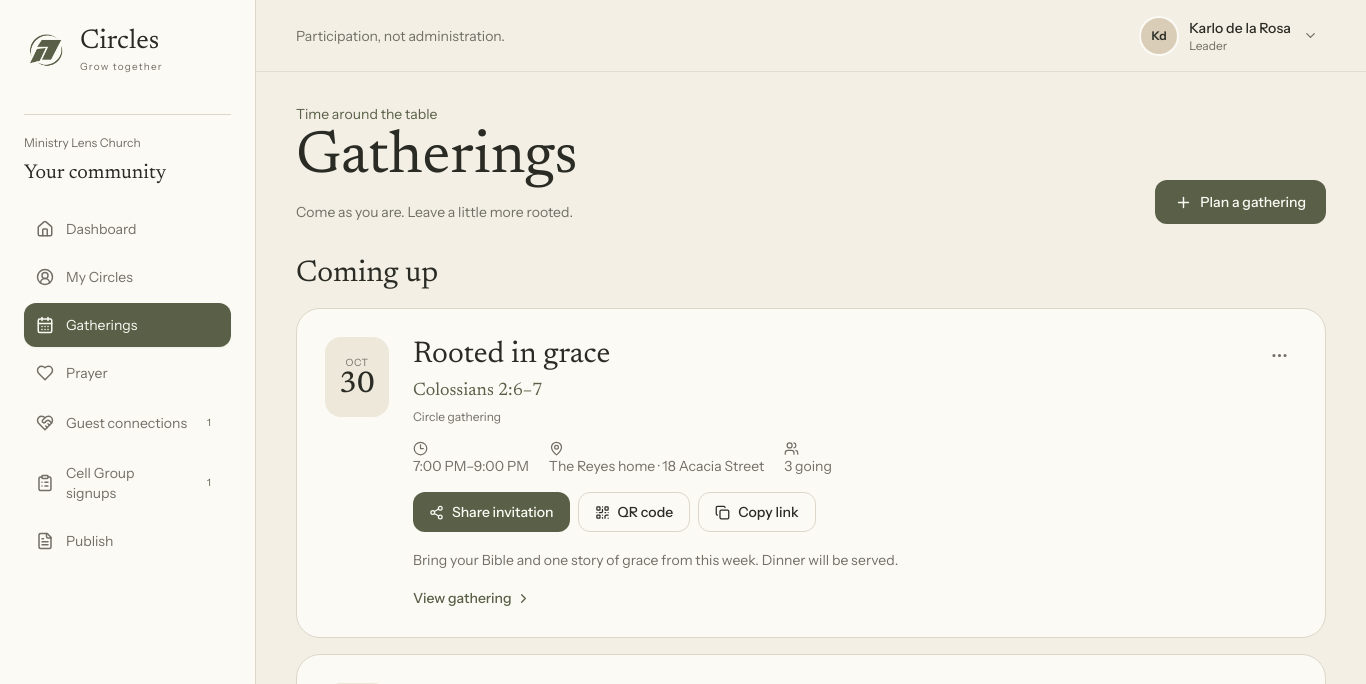
Test: Circles MVP › explains where attendance is recorded for a historical gathering
Click the button "Plan a gathering": (1241,202) x1=1155 y1=180 x2=1326 y2=224
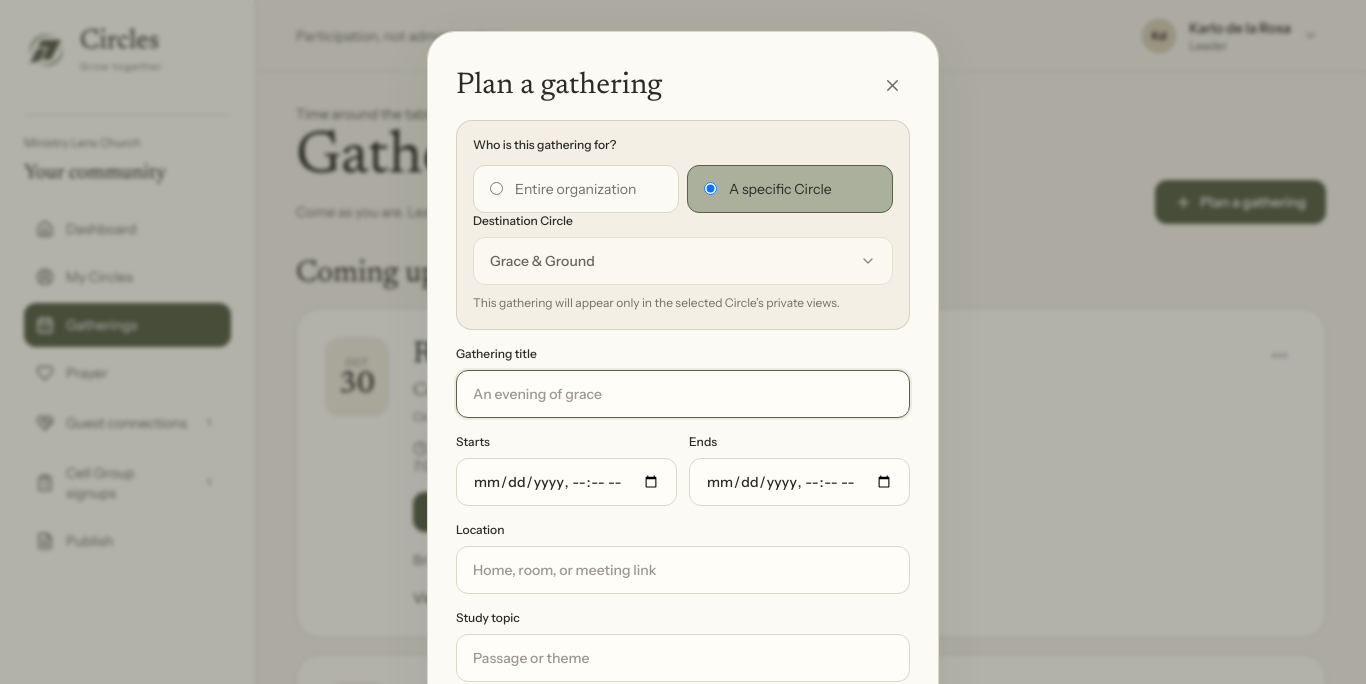
In the field labelled "Starts": (566,482) x1=456 y1=458 x2=677 y2=506, type "2020-01-12T18:00"
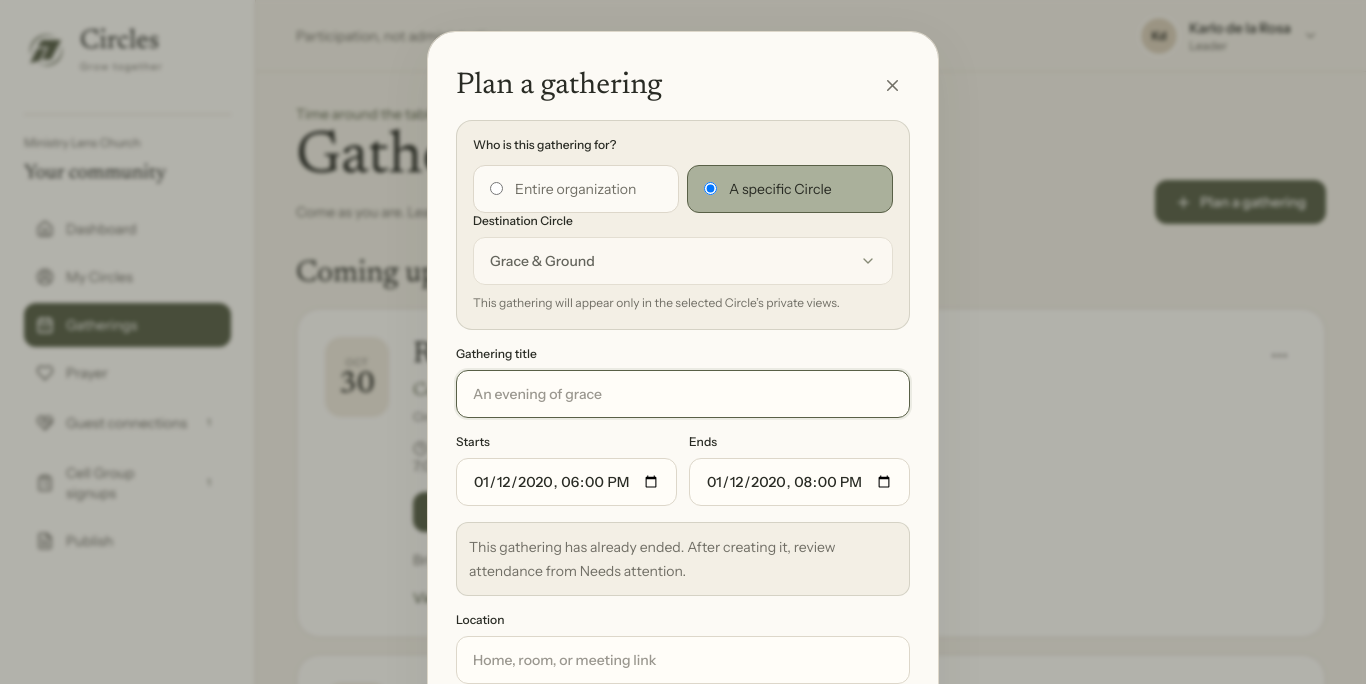
Expected: the text "This gathering has already ended. After creating it, review attendance from Needs attention." is shown, x1=469 y1=538 x2=836 y2=580
